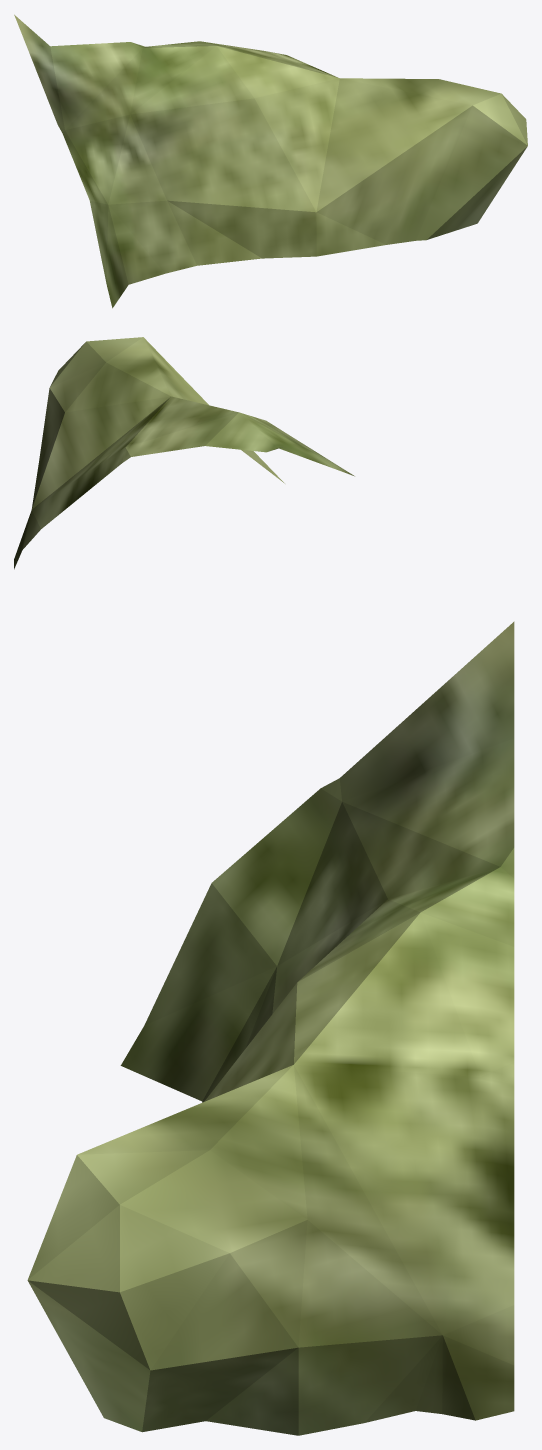
The picture shows the model from 3 angles, top to bottom: view 1: azimuth 30°, elevation 25°; view 2: azimuth 150°, elevation 25°; view 3: azimuth 270°, elevation 25°; orthographic projection. The views are drawn at different scales.
Bounding box in the file's own units: 0.829 × 0.4249 × 0.4218.
1 material, 1 textured.
